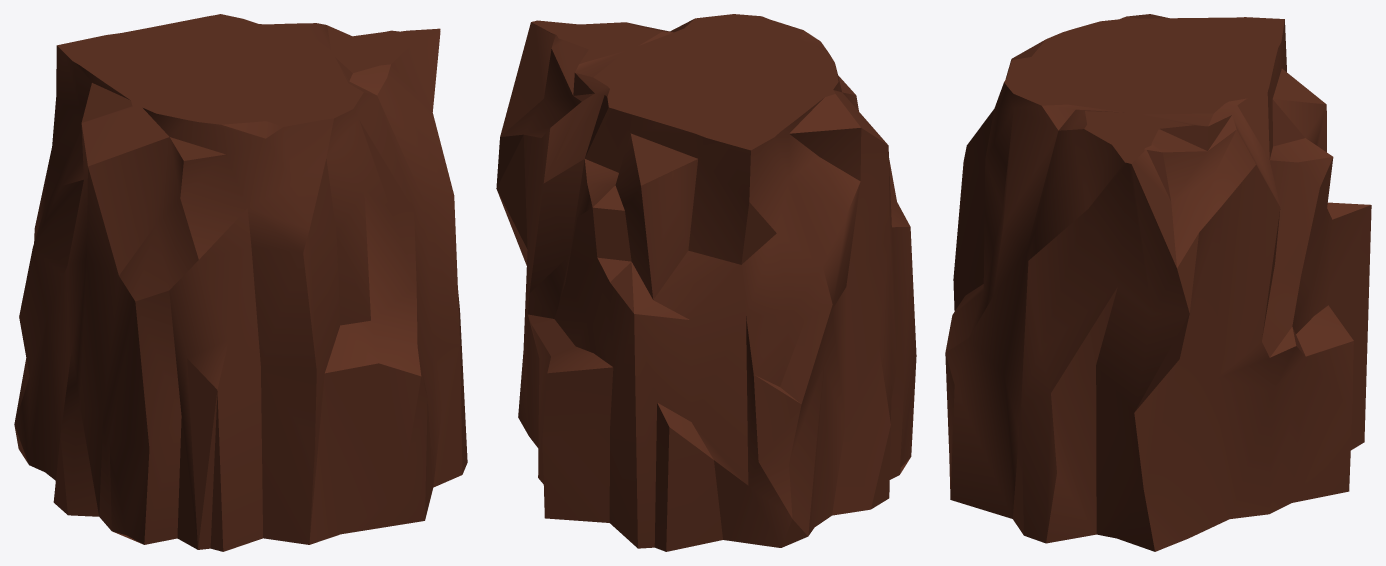
The model's file is Hill_5_1.fbx.
3 renders of one model, left to right at view 1: azimuth 30°, elevation 25°; view 2: azimuth 150°, elevation 25°; view 3: azimuth 270°, elevation 25°, orthographic. The views are drawn at different scales.
Visible parts, largest first — view 1: Rock_5_1; view 2: Rock_5_1; view 3: Rock_5_1.
Part boxes in pixels (x1,y1,x2,y2): Rock_5_1: [14, 14, 467, 551]; Rock_5_1: [496, 14, 916, 551]; Rock_5_1: [945, 14, 1371, 551].
Bounding box in the file's own units: 1513 × 1500 × 1496.
